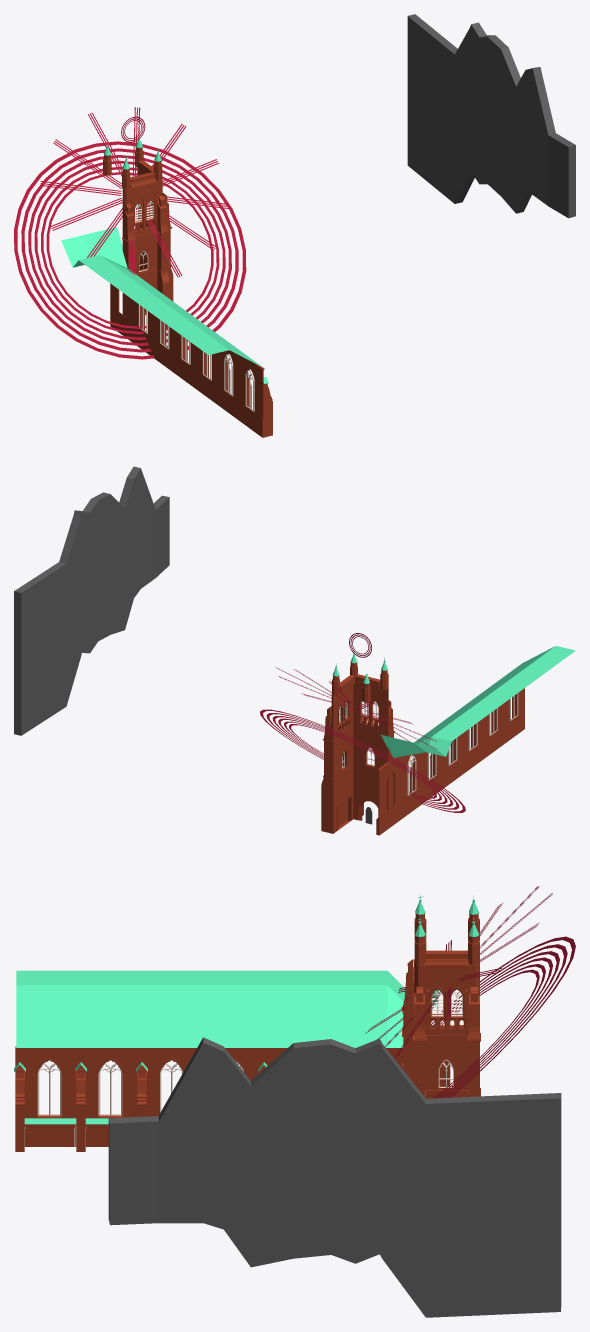
3 views of the same model, one above another, from view 1: azimuth 30°, elevation 25°; view 2: azimuth 150°, elevation 25°; view 3: azimuth 270°, elevation 25° (orthographic). The views are drawn at different scales.
Visible parts, largest first — view 1: Background, Bigger Circle, Wall Segment, Plane, Front Side, Rays, Window Frame, Column, Front Side.001; view 2: Background, Wall Segment, Plane, Front Side.001, Front Side, Bigger Circle, Window Frame, Rays, Column; view 3: Background, Plane, Wall Segment, Front Side.001, Bigger Circle, Column, Rays, Front Side, Window Frame, Upper Window Frame Group.001, Roof Base.001.
Boxes of the visible parts, left/top/right/bottom form: Background: left=407, top=14, right=575, bottom=218; Bigger Circle: left=14, top=141, right=246, bottom=359; Wall Segment: left=110, top=283, right=265, bottom=437; Plane: left=61, top=227, right=263, bottom=367; Front Side: left=122, top=180, right=169, bottom=330; Rays: left=40, top=107, right=229, bottom=277; Window Frame: left=138, top=304, right=254, bottom=411; Column: left=140, top=306, right=272, bottom=436; Front Side.001: left=138, top=169, right=173, bottom=315; Background: left=14, top=466, right=169, bottom=735; Wall Segment: left=376, top=688, right=524, bottom=835; Plane: left=381, top=646, right=575, bottom=757; Front Side.001: left=321, top=684, right=353, bottom=833; Front Side: left=353, top=683, right=395, bottom=820; Bigger Circle: left=260, top=709, right=465, bottom=812; Window Frame: left=407, top=693, right=518, bottom=795; Rays: left=275, top=667, right=438, bottom=749; Column: left=409, top=694, right=516, bottom=792; Background: left=108, top=1037, right=561, bottom=1317; Plane: left=16, top=970, right=438, bottom=1047; Wall Segment: left=15, top=1046, right=450, bottom=1146; Front Side.001: left=413, top=963, right=480, bottom=1098; Bigger Circle: left=431, top=936, right=575, bottom=1098; Column: left=15, top=1065, right=265, bottom=1151; Rays: left=365, top=886, right=552, bottom=1058; Front Side: left=401, top=959, right=416, bottom=1083; Window Frame: left=37, top=1060, right=243, bottom=1115; Upper Window Frame Group.001: left=429, top=986, right=465, bottom=1029; Roof Base.001: left=426, top=950, right=468, bottom=965.
Size of the model in its own units: 24.59 by 13.06 by 19.45.
